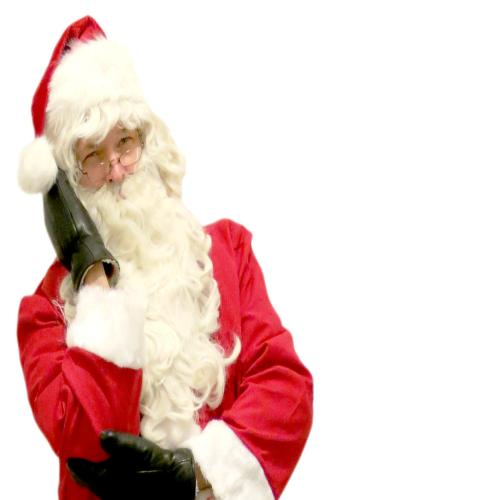Santa: (14, 14, 314, 500)
